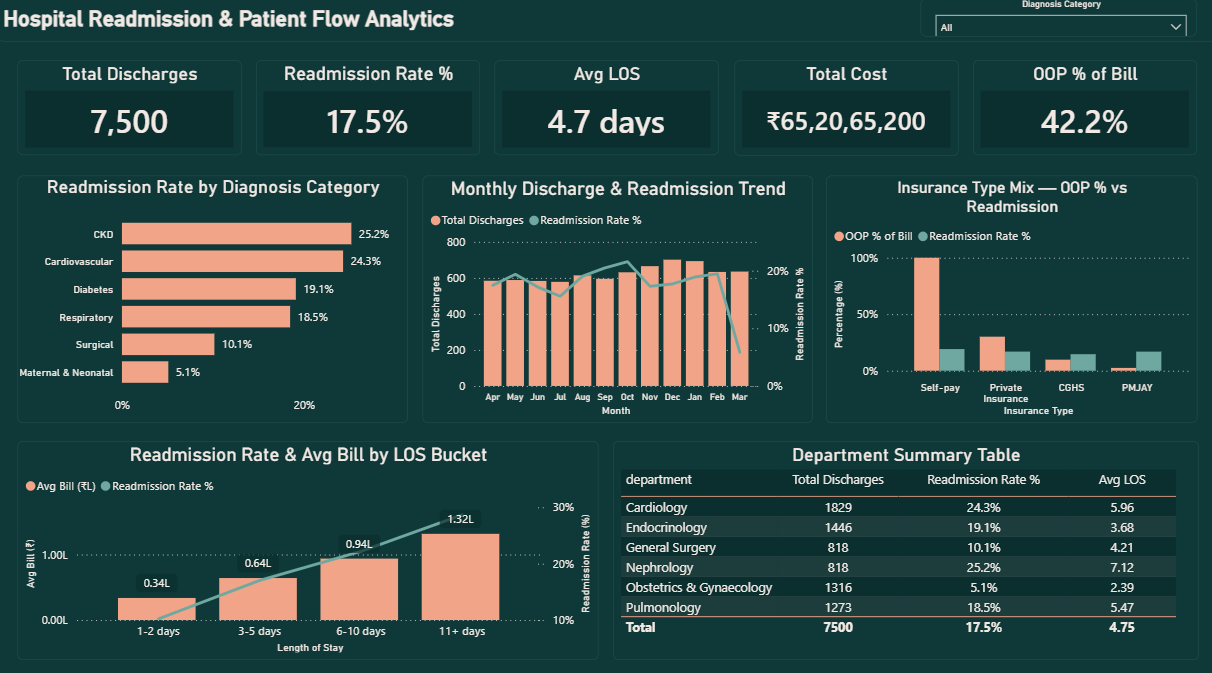

This screenshot's page, from the dashboard's own definition file:
{"tool":"powerbi","page":{"name":"Executive Overview","canvas":[1280,720],"ordinal":0},"visuals":[{"type":"textbox","title":"Hospital Readmission & Patient Flow Analytics","box":[0,0,1279.6,50.3],"z":0},{"type":"slicer","title":"Diagnosis Category","fields":{"Values":["encounters_features.diagnosis_category"]},"box":[969,5.2,289.9,39.9],"z":1000},{"type":"cardVisual","title":"Total Discharges","fields":{"Data":["_Measures.Total Discharges"]},"box":[20,70,235,100],"z":2000},{"type":"cardVisual","title":"Readmission Rate %","fields":{"Data":["_Measures.Readmission Rate %"]},"box":[271,70,235,100],"z":3000},{"type":"cardVisual","title":"Avg LOS","fields":{"Data":["_Measures.Avg LOS"]},"box":[522,70,235,100],"z":4000},{"type":"cardVisual","title":"Total Cost","fields":{"Data":["_Measures.Total Cost"]},"box":[773,70,235,100.7],"z":5000},{"type":"cardVisual","title":"OOP % of Bill","fields":{"Data":["_Measures.OOP % of Bill"]},"box":[1024,70,235,100],"z":6000},{"type":"barChart","title":"Readmission Rate by Diagnosis Category","fields":{"Category":["encounters_features.DiagnosisCategoryLabel"],"Y":["_Measures.Readmission Rate %"]},"box":[20,190,410,260],"z":7000},{"type":"lineStackedColumnComboChart","title":"Monthly Discharge & Readmission Trend","fields":{"Category":["encounters_features.FiscalMonthLabel"],"Y":["_Measures.Total Discharges"],"Y2":["_Measures.Readmission Rate %"]},"box":[445,190,410,260],"z":8000},{"type":"clusteredColumnChart","title":"Insurance Type Mix — OOP % vs Readmission","fields":{"Category":["patients.insurance_type"],"Y":["_Measures.OOP % of Bill","_Measures.Readmission Rate %"]},"box":[870,190,390,260],"z":9000},{"type":"lineClusteredColumnComboChart","title":"Readmission Rate & Avg Bill by LOS Bucket ","fields":{"Category":["encounters_features.LOSBucketLabel"],"Y":["_Measures.Avg Bill Lakhs (for chart)"],"Y2":["_Measures.Readmission Rate %"]},"box":[20,470,610,230],"z":10000},{"type":"tableEx","title":"Department Summary Table","fields":{"Values":["encounters_features.department","_Measures.Total Discharges","_Measures.Readmission Rate %","_Measures.Avg LOS"]},"box":[645,470,615,230],"z":11000}]}

Visuals, with their boxes in screenshot pixels (x1, y1, x2, y2), scaled from the page's 1280x720 canvas onto the 1212x673 screenshot:
"Hospital Readmission & Patient Flow Analytics" textbox: (x1=0, y1=0, x2=1211, y2=47)
"Diagnosis Category" slicer: (x1=918, y1=5, x2=1192, y2=42)
"Total Discharges" cardVisual: (x1=19, y1=65, x2=241, y2=159)
"Readmission Rate %" cardVisual: (x1=257, y1=65, x2=479, y2=159)
"Avg LOS" cardVisual: (x1=494, y1=65, x2=717, y2=159)
"Total Cost" cardVisual: (x1=732, y1=65, x2=954, y2=160)
"OOP % of Bill" cardVisual: (x1=970, y1=65, x2=1192, y2=159)
"Readmission Rate by Diagnosis Category" barChart: (x1=19, y1=178, x2=407, y2=421)
"Monthly Discharge & Readmission Trend" lineStackedColumnComboChart: (x1=421, y1=178, x2=810, y2=421)
"Insurance Type Mix — OOP % vs Readmission" clusteredColumnChart: (x1=824, y1=178, x2=1193, y2=421)
"Readmission Rate & Avg Bill by LOS Bucket " lineClusteredColumnComboChart: (x1=19, y1=439, x2=597, y2=654)
"Department Summary Table" tableEx: (x1=611, y1=439, x2=1193, y2=654)
